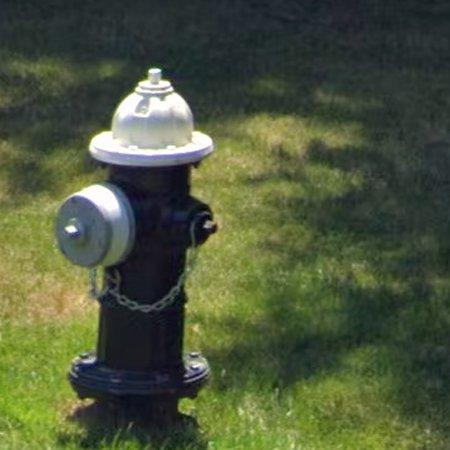a fire hydrant: (55, 68, 217, 424)
